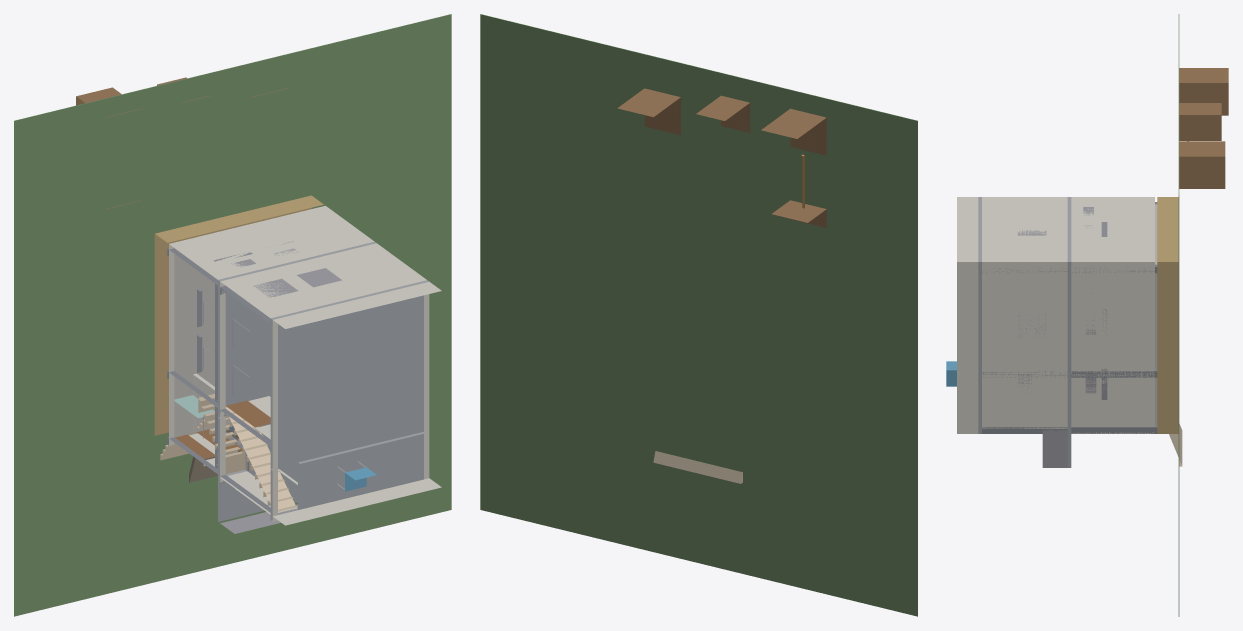
The model's file is ground-floor-asbuilt.glb.
3 renders of one model, left to right at view 1: azimuth 30°, elevation 25°; view 2: azimuth 150°, elevation 25°; view 3: azimuth 270°, elevation 25°, orthographic. The views are drawn at different scales.
Visible parts, largest first — view 1: ground_plane, roof_slab_1f_back, wall_back, wall_1f_back, roof_slab_1f_front_right, floor_slab, plinth, roof_slab_back, parapet_front, parapet_back, stair_slope_1f, wall_1f_left (+8 smaller); view 2: ground_plane, bw_soak_pit, ww_soak_pit, gw_soak_pit, ramp, septic_tank; view 3: wall_1f_right, wall_right, wall_back, wall_1f_back, plinth, parapet_right, ww_soak_pit, bw_soak_pit, gw_soak_pit, parapet_back, ground_plane, railing_terrace_right (+7 smaller).
Part boxes in pixels (x1,y1,x2,y2): ground_plane: (14,14,451,616); roof_slab_1f_back: (270,280,428,468); wall_back: (169,205,374,279); wall_1f_back: (220,243,426,316); roof_slab_1f_front_right: (298,431,423,509); floor_slab: (174,248,230,437); plinth: (154,195,323,435); roof_slab_back: (218,241,376,417); parapet_front: (272,478,441,525); parapet_back: (272,281,441,328); stair_slope_1f: (225,406,295,509); wall_1f_left: (220,280,275,477); ground_plane: (480,14,917,616); bw_soak_pit: (761,108,826,155); ww_soak_pit: (617,88,680,135); gw_soak_pit: (696,95,750,132); ramp: (653,451,742,483); septic_tank: (772,200,826,227); wall_1f_right: (982,260,1067,428); wall_right: (1071,261,1154,433); wall_back: (1071,197,1154,266); wall_1f_back: (982,197,1067,265); plinth: (1157,197,1178,433); parapet_right: (957,261,978,428); ww_soak_pit: (1179,141,1225,188); bw_soak_pit: (1179,68,1228,115); gw_soak_pit: (1179,103,1221,140); parapet_back: (957,197,978,266); ground_plane: (1178,14,1179,616); railing_terrace_right: (1042,429,1067,467).
Bounding box in the file's own units: 18.29 × 19.81 × 12.04.
